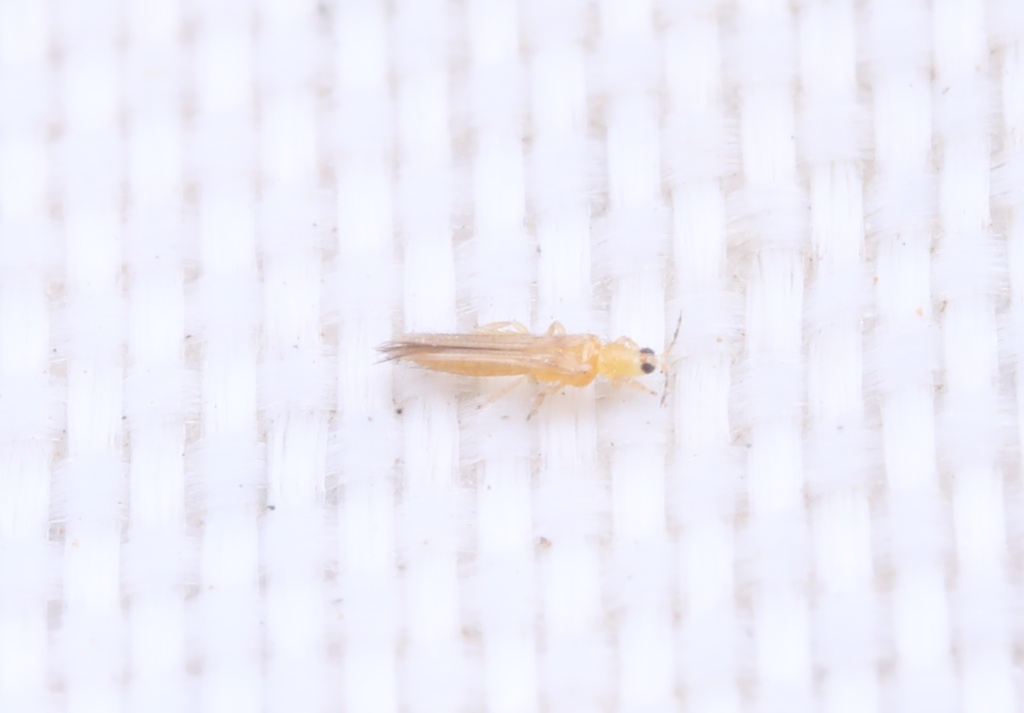tiny_pests: (294, 170, 798, 493)
